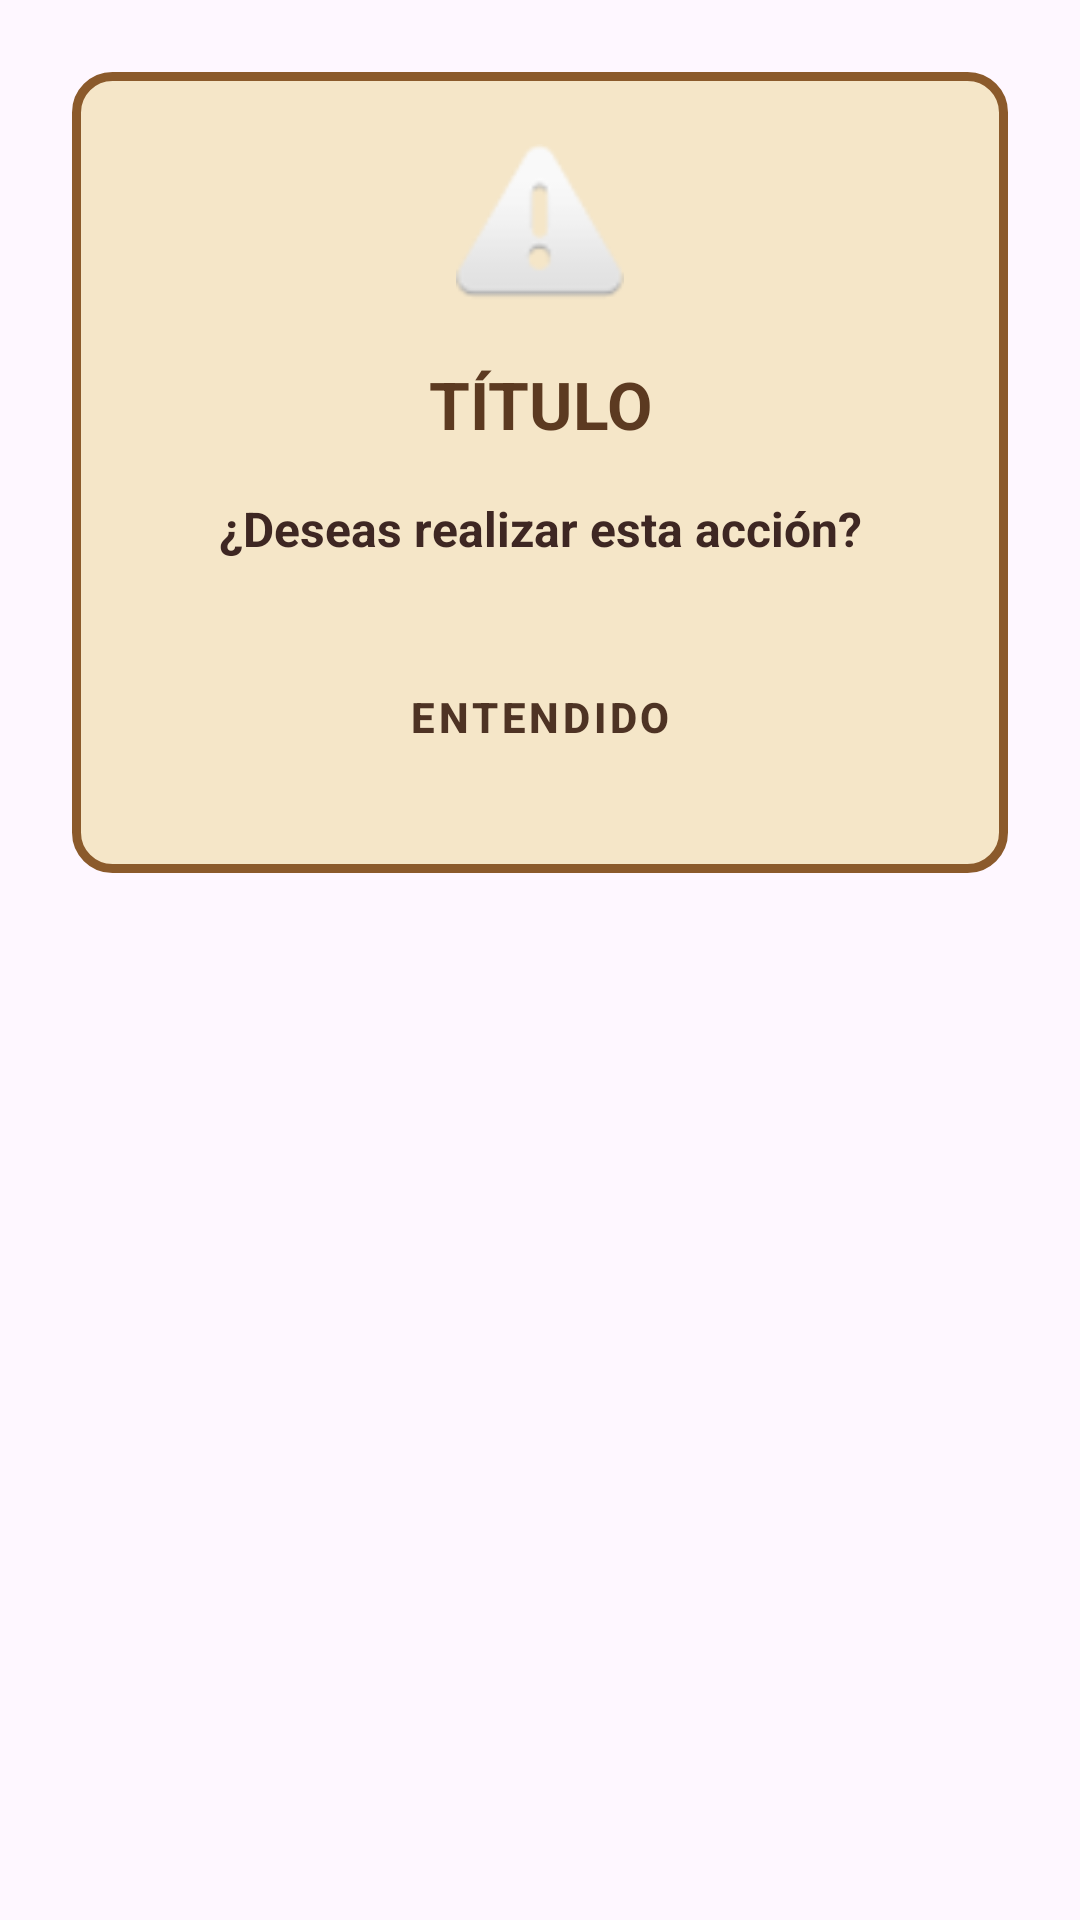

Icons on this 1080 x 1920 Android screen, each with its box as (x1, y1, x2, y2):
alert: (456, 147, 621, 296)
